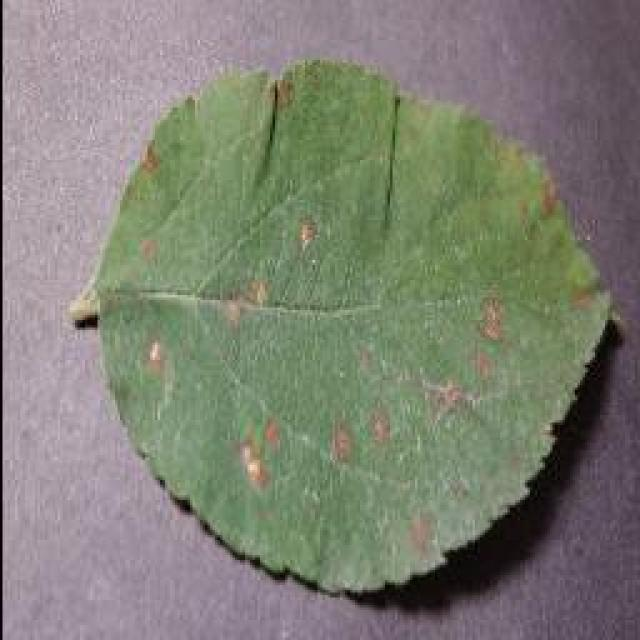apple rust disease: (68, 55, 622, 597)
